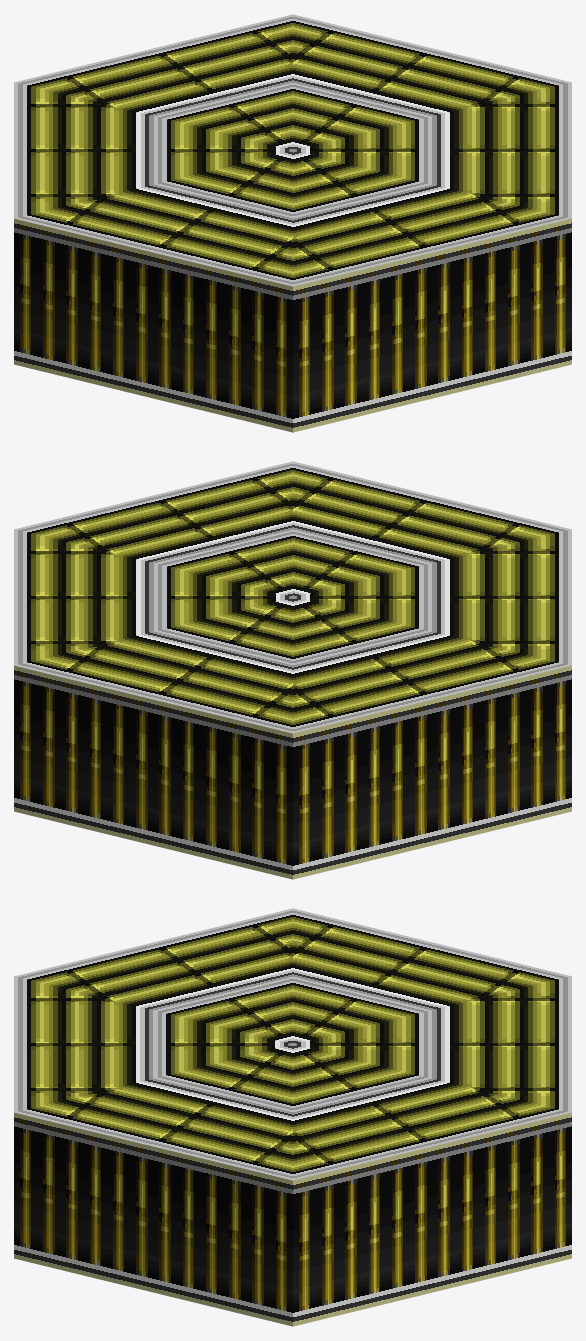
File: ct_mecha_obj06.glb
The picture shows the model from 3 angles, top to bottom: view 1: azimuth 30°, elevation 25°; view 2: azimuth 150°, elevation 25°; view 3: azimuth 270°, elevation 25°; orthographic projection.
Parts seen in each view (by area): view 1: ct_mecha_obj06; view 2: ct_mecha_obj06; view 3: ct_mecha_obj06.
Boxes of the visible parts, bbox=[...] form: ct_mecha_obj06: bbox=[14, 14, 571, 432]; ct_mecha_obj06: bbox=[14, 461, 571, 879]; ct_mecha_obj06: bbox=[14, 908, 571, 1326].
Bounding box in the file's own units: 75 × 18.75 × 64.95.
2 materials, 2 textured.
